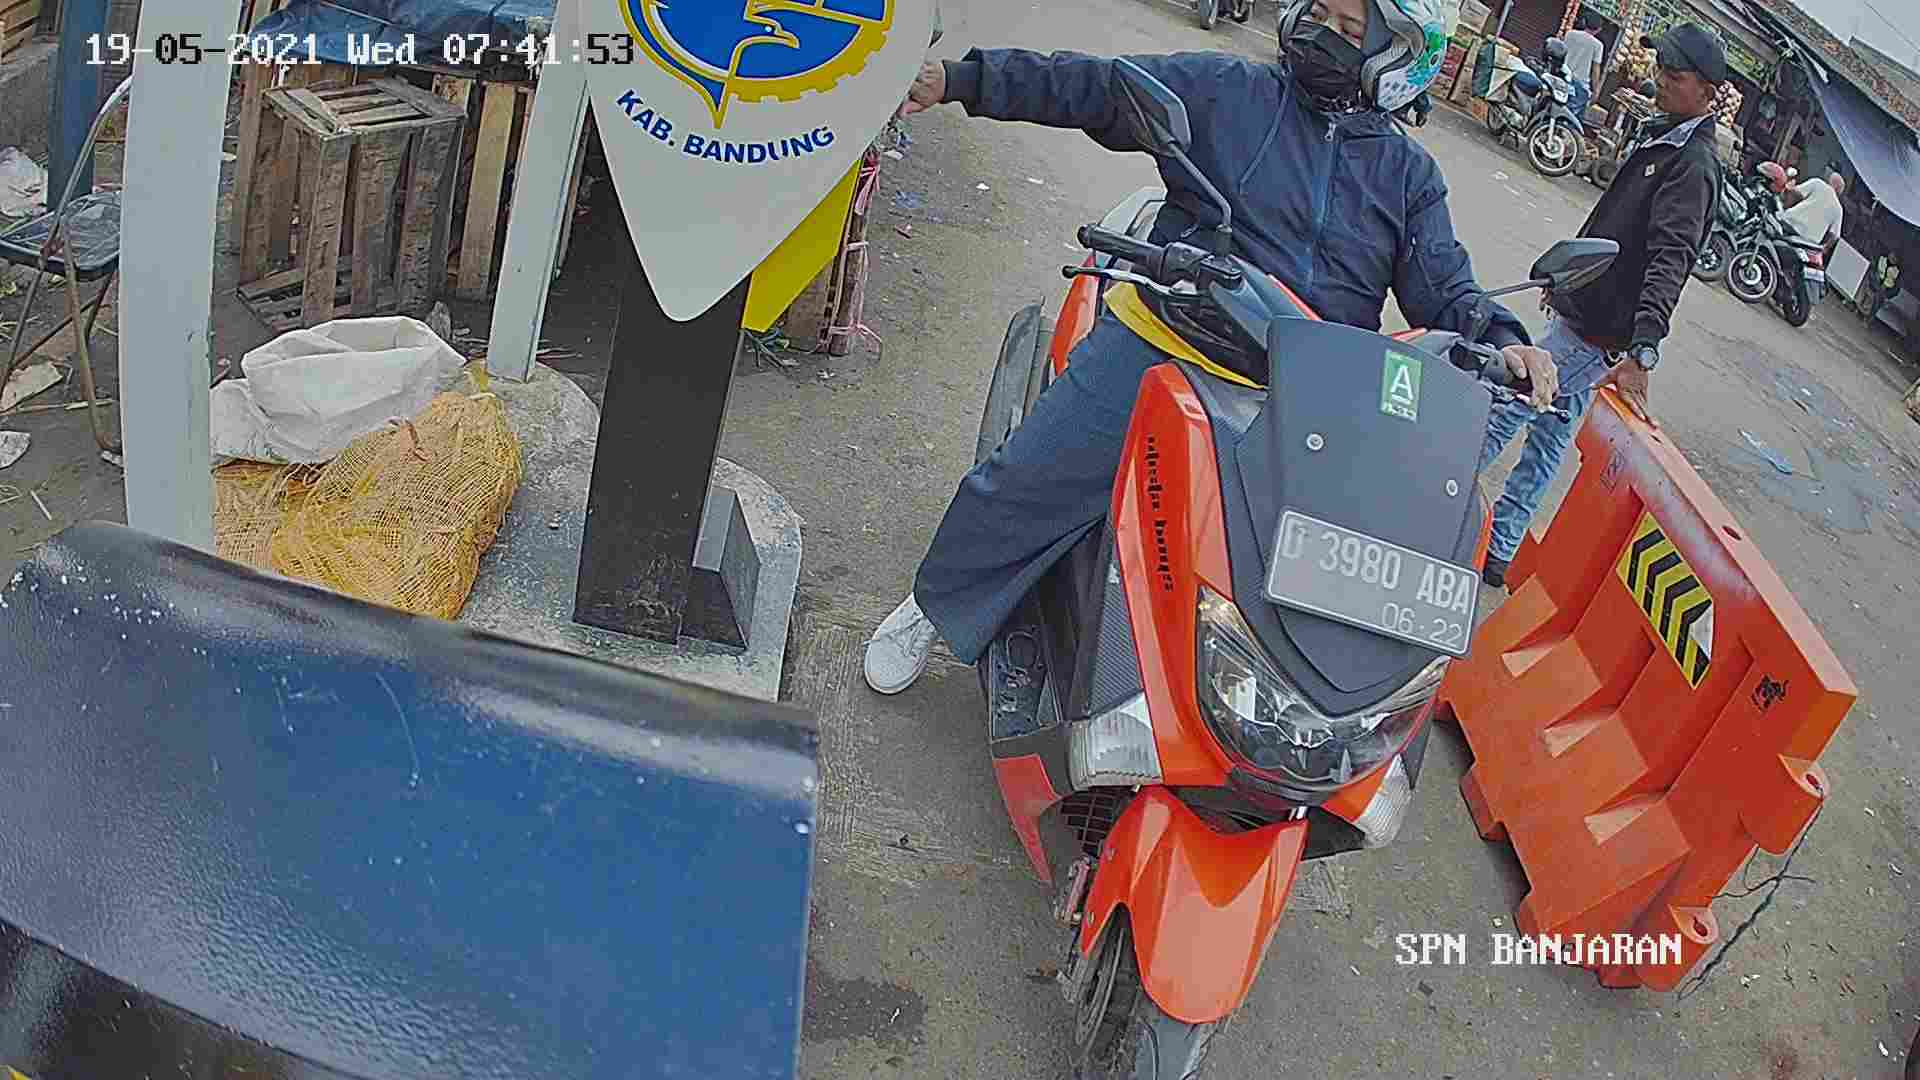motor: (986, 146, 1494, 1080)
